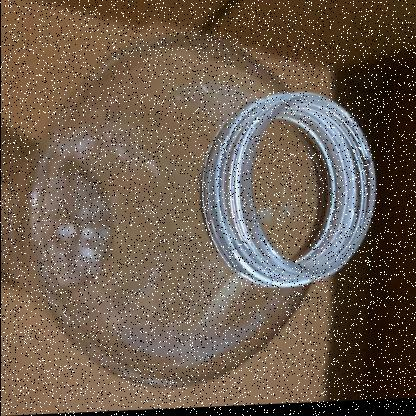open bottle: (33, 17, 398, 405)
